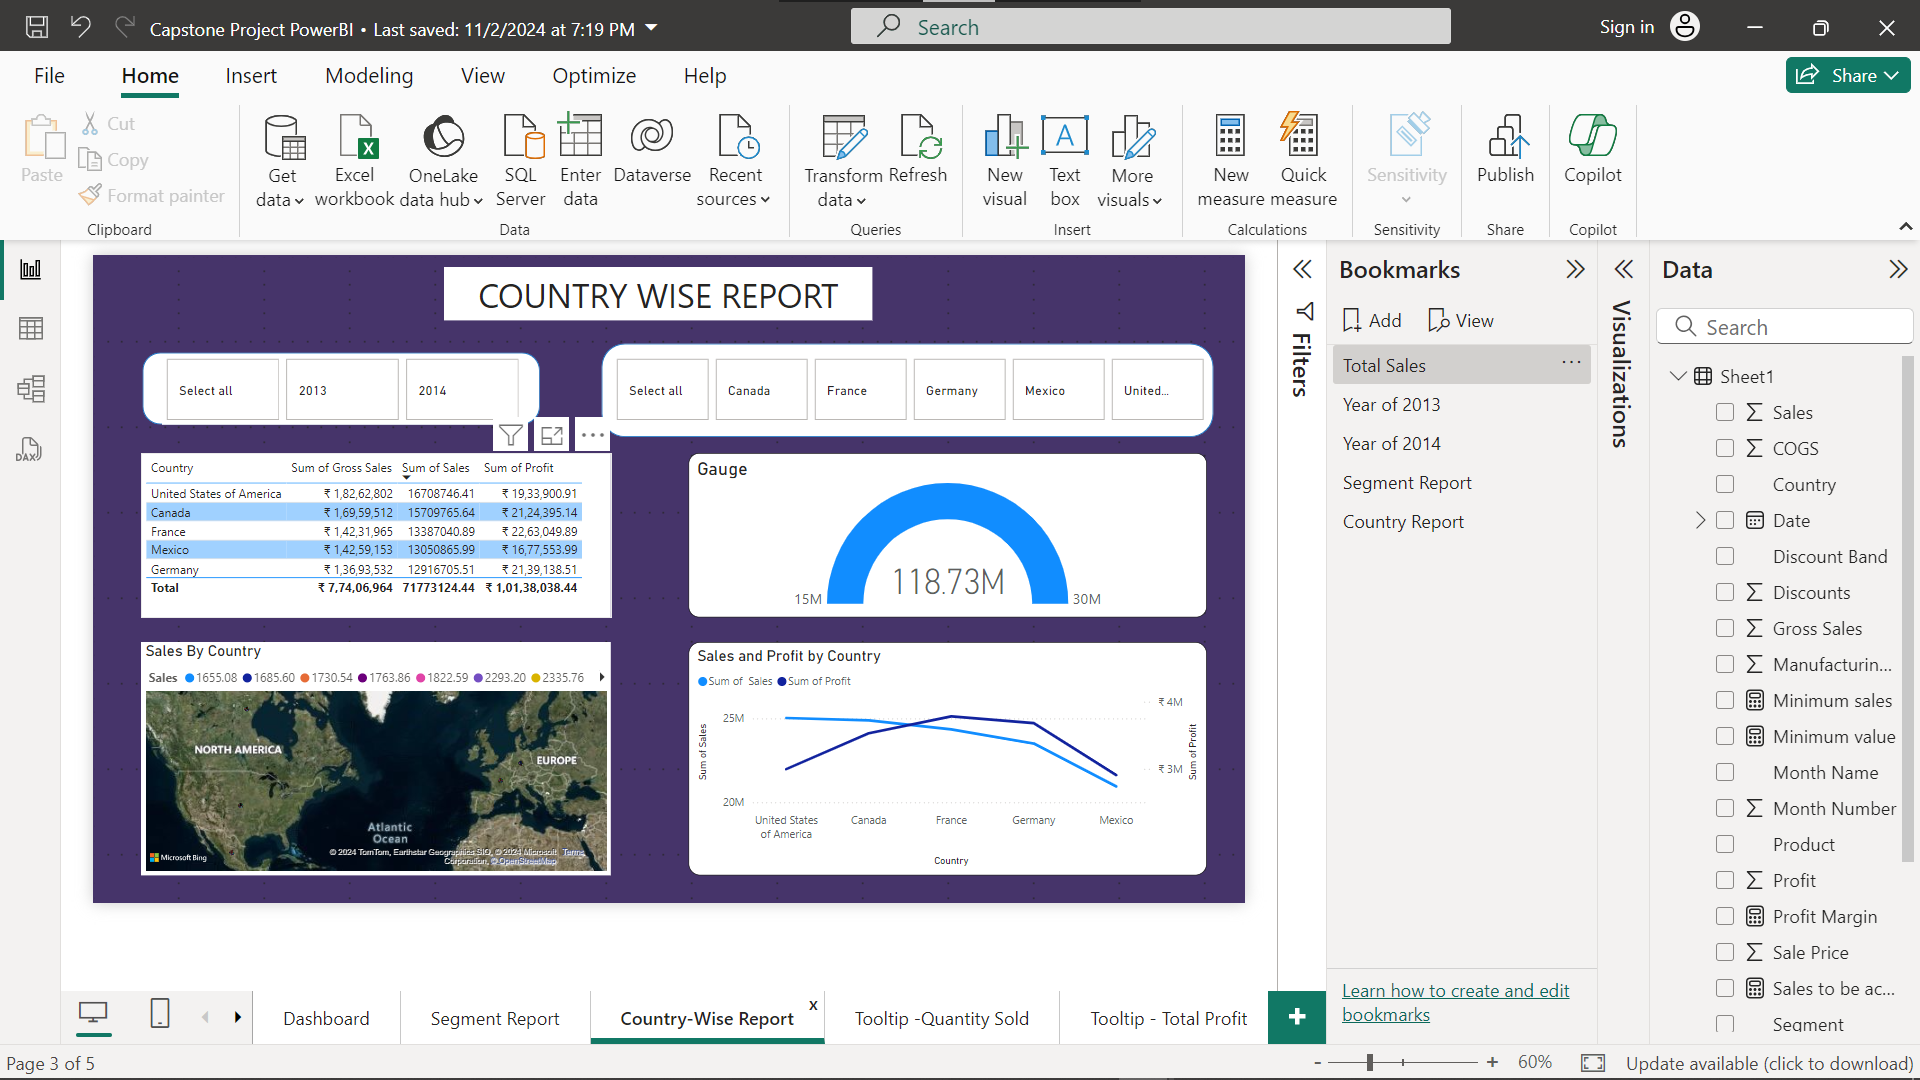

The page's visual inventory and layout, read from the dashboard file:
{"tool":"powerbi","page":{"name":"Country-Wise Report","canvas":[1280,720],"ordinal":2},"visuals":[{"type":"shape","box":[54.4,108.8,441.6,80],"z":0},{"type":"advancedSlicerVisual","fields":{"Values":["Sheet1.Year"]},"box":[76.8,110.4,403.2,78.4],"z":1000},{"type":"shape","box":[564.8,97.6,680,104],"z":1500},{"type":"advancedSlicerVisual","fields":{"Values":["Sheet1.Country"]},"box":[576,109.4,662.4,78.7],"z":2000},{"type":"tableEx","fields":{"Values":["Sheet1.Country","Sum(Sheet1.Gross Sales)","Sum(Sheet1. Sales)","Sum(Sheet1.Profit)"]},"box":[53.8,220.8,522.2,182.4],"z":3000},{"type":"map","title":"Sales By Country","fields":{"Category":["Sheet1.Country"],"Series":["Sheet1. Sales"]},"box":[53.8,430.1,522.2,259.2],"z":4000},{"type":"gauge","title":"Gauge","fields":{"Y":["Sum(Sheet1. Sales)"],"MinValue":["Sheet1.Minimum sales"],"MaxValue":["Sheet1.Target Sale Value"]},"box":[662.4,220.8,576,182.4],"z":5000},{"type":"lineChart","title":"Sales and Profit by Country","fields":{"Category":["Sheet1.Country"],"Y":["Sum(Sheet1. Sales)"],"Y2":["Sum(Sheet1.Profit)"]},"box":[662.4,430.1,576,259.2],"z":6000},{"type":"textbox","box":[389.8,13.4,476.2,59.5],"z":7000}]}

Visuals, with their boxes on the page's 1280x720 design canvas (x1, y1, x2, y2). These are canvas units, not pixel positions in the 1920x1080 screenshot, which may show the page scaled, cropped or inside an application window:
shape: [left=54, top=109, right=496, bottom=189]
advancedSlicerVisual - Sheet1.Year: [left=77, top=110, right=480, bottom=189]
shape: [left=565, top=98, right=1245, bottom=202]
advancedSlicerVisual - Sheet1.Country: [left=576, top=109, right=1238, bottom=188]
tableEx - Sheet1.Country x Sum(Sheet1.Gross Sales): [left=54, top=221, right=576, bottom=403]
"Sales By Country" map: [left=54, top=430, right=576, bottom=689]
"Gauge" gauge: [left=662, top=221, right=1238, bottom=403]
"Sales and Profit by Country" lineChart: [left=662, top=430, right=1238, bottom=689]
textbox: [left=390, top=13, right=866, bottom=73]
